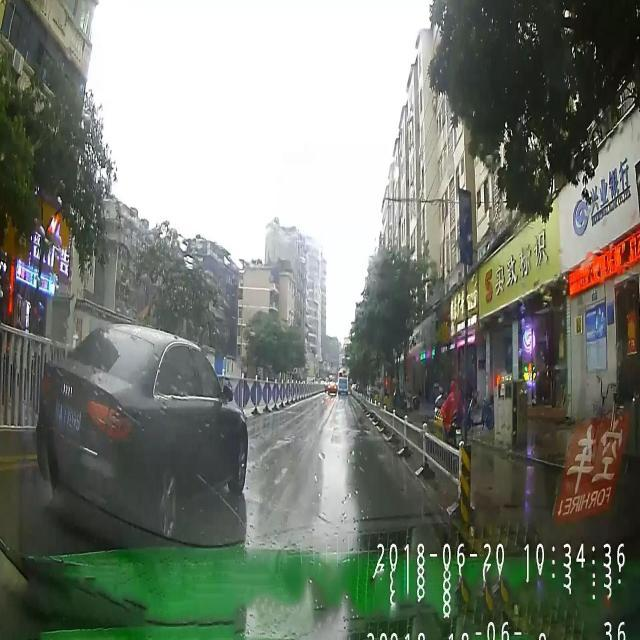car: (35, 322, 248, 534), (328, 382, 338, 396)
